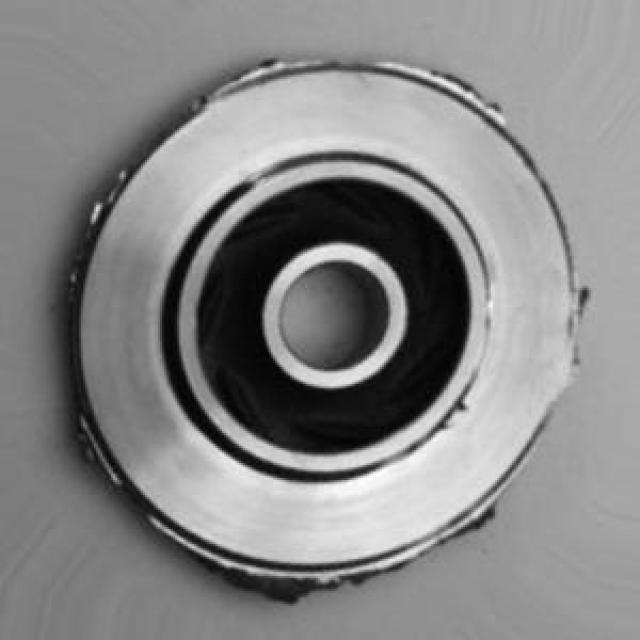Defect: (71, 408, 122, 484)
